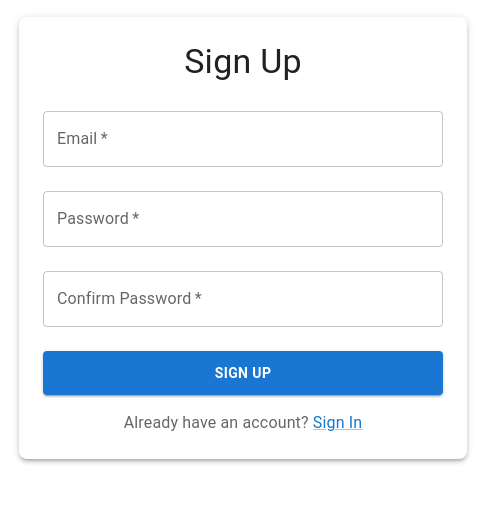
Test case: Authentication Flow › Sign Up › should show an error for registration failure
In the field labelled "Email *": coordinates (243, 139) [43,111,443,167], type "test.user@reqres.in"
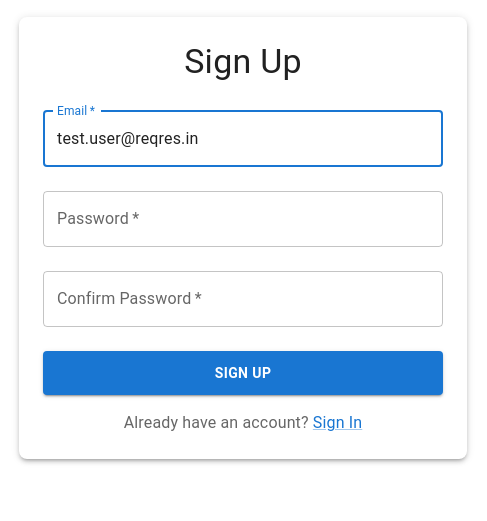
In the password field labelled "Password *": coordinates (243, 219) [43,191,443,247], type "password123"
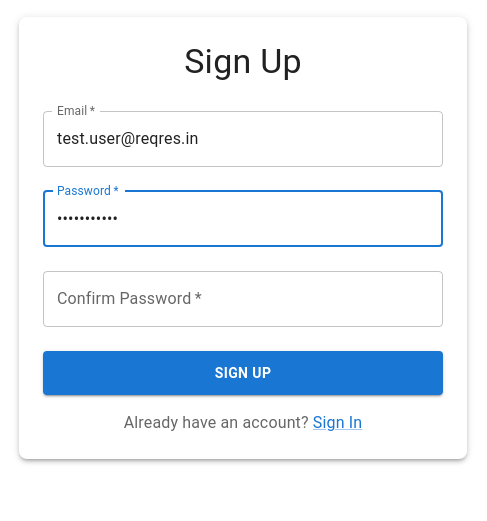
In the password field labelled "Confirm Password *": coordinates (243, 299) [43,271,443,327], type "password123"
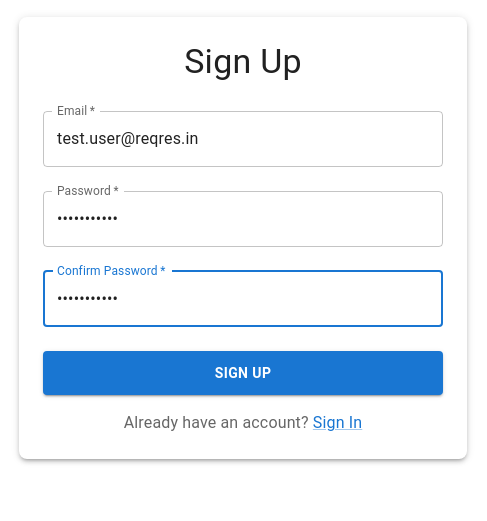
Click the submit button: coordinates (243, 374) [43,351,443,396]
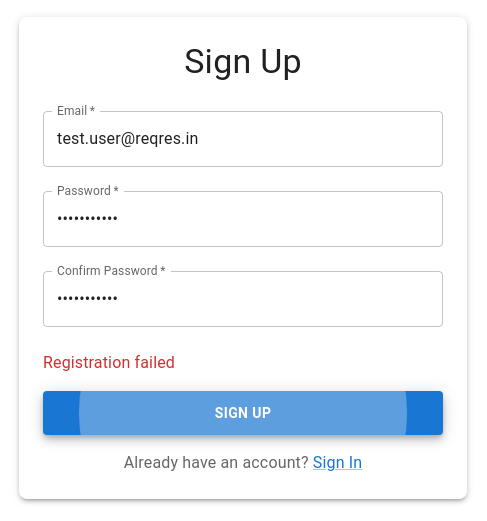
Check: the text "Registration failed" is shown, box [43,353,175,372]
